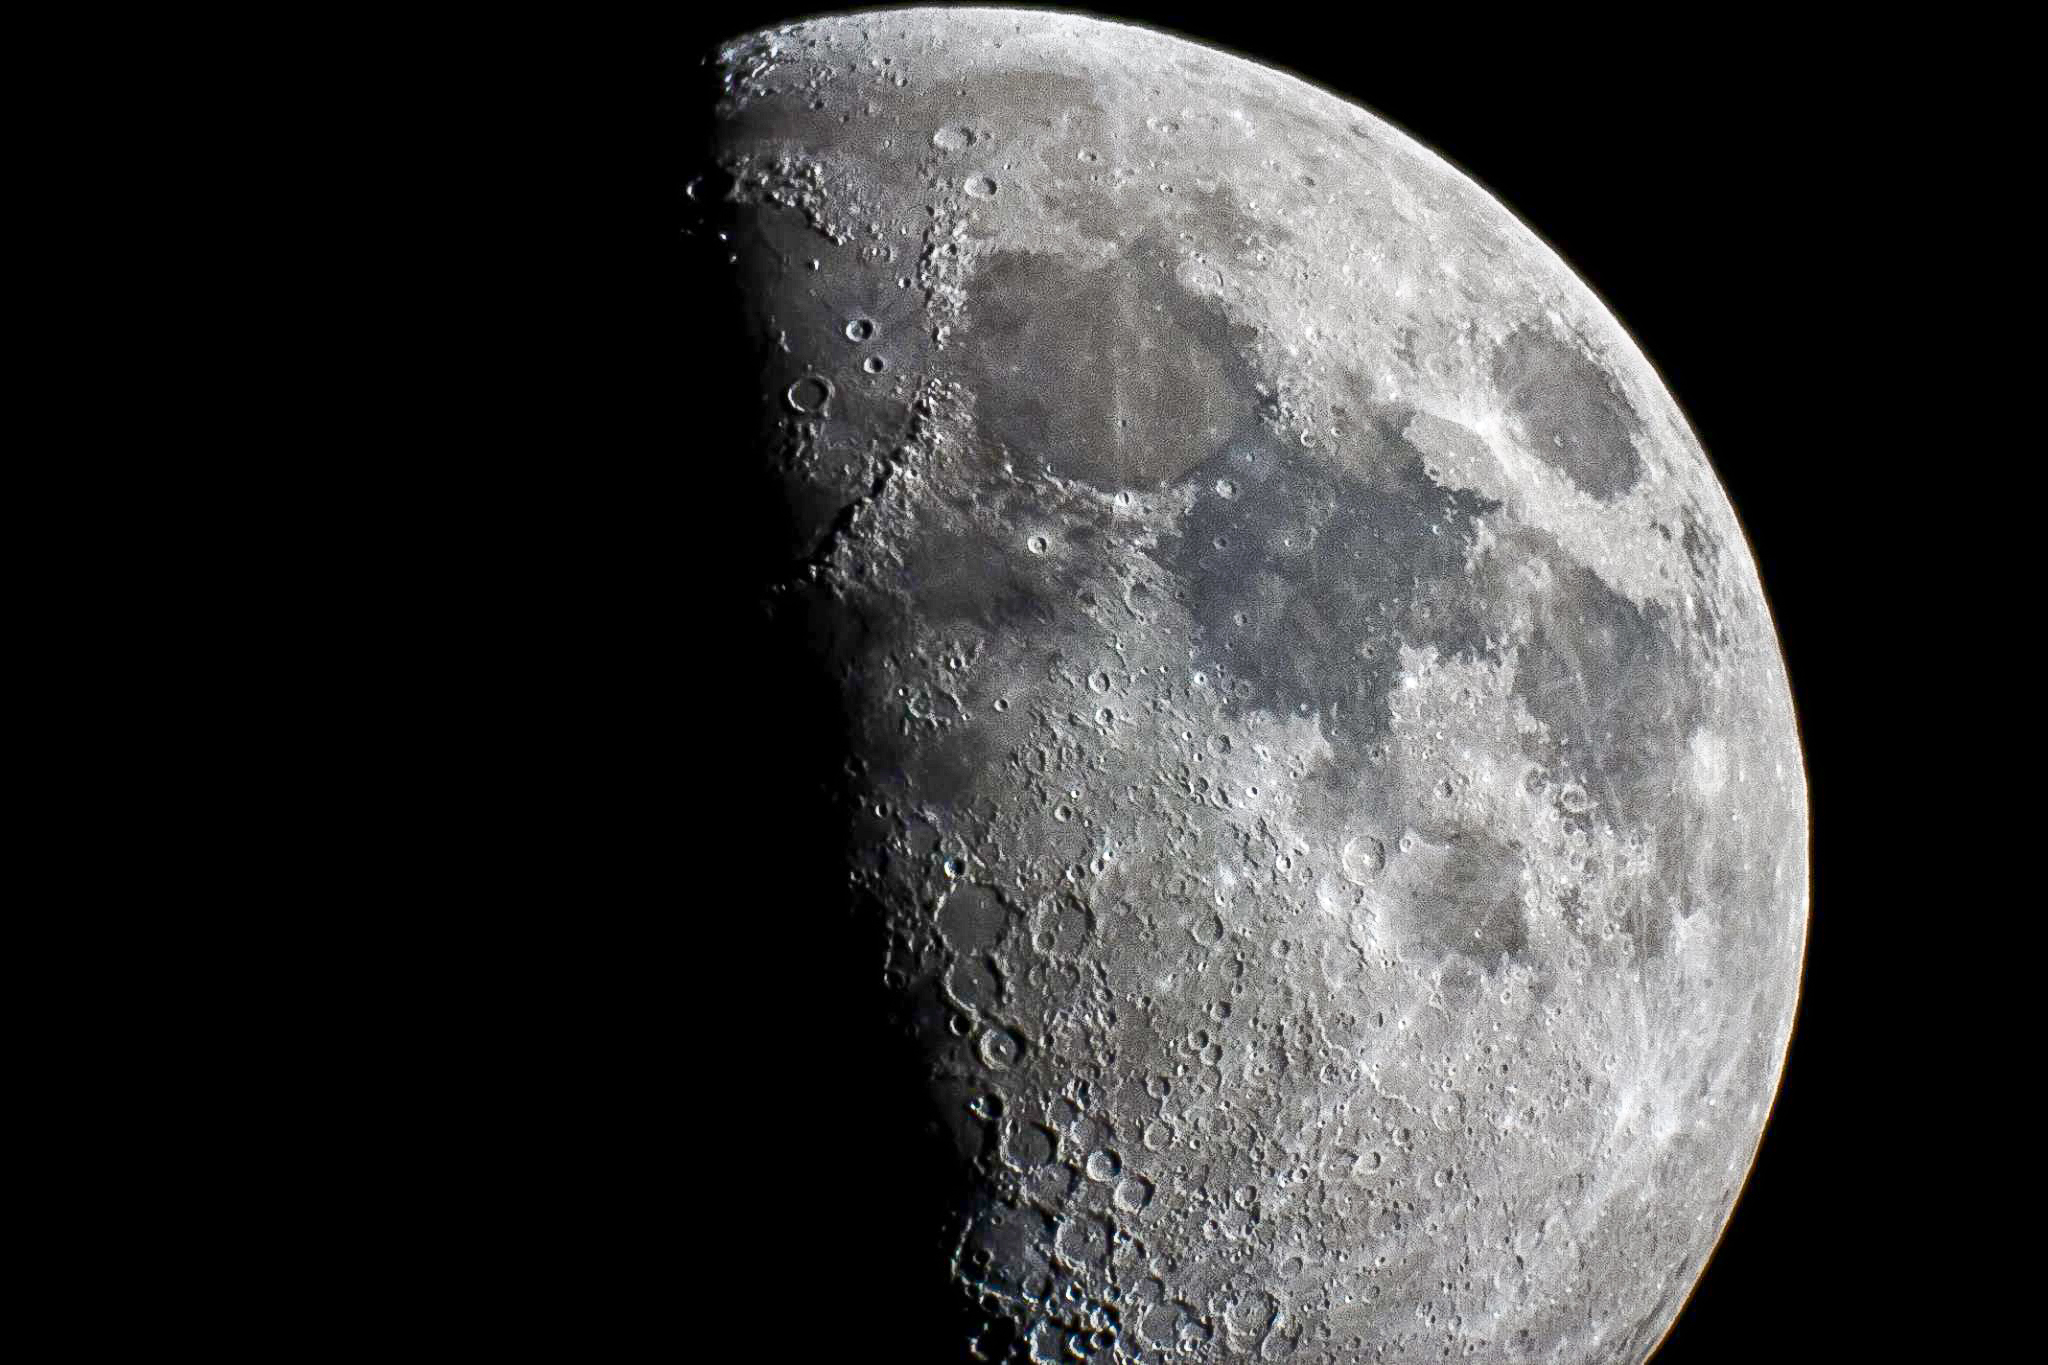crater: (1466, 305, 1670, 519), (944, 1191, 1083, 1310), (927, 879, 1023, 961), (1673, 711, 1742, 814), (1311, 932, 1383, 1002), (996, 1117, 1070, 1182), (1332, 807, 1387, 891), (923, 116, 1005, 168), (1276, 154, 1351, 209), (952, 168, 1019, 219), (784, 369, 845, 419), (833, 300, 889, 347), (1011, 526, 1061, 576), (1183, 909, 1233, 958), (1137, 107, 1192, 149), (1430, 1085, 1472, 1136), (1099, 404, 1147, 449), (1211, 466, 1249, 519), (1075, 660, 1124, 698), (987, 687, 1034, 725), (1491, 1252, 1529, 1298), (1273, 1251, 1314, 1290), (857, 49, 911, 76), (1203, 727, 1243, 763), (1221, 602, 1262, 634), (1052, 800, 1081, 832), (1070, 142, 1105, 168), (1398, 829, 1415, 859)
